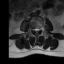CCS_normal: (36, 26, 37, 34)
LFS_normal: (39, 25, 41, 32)
LLS_normal: (37, 26, 39, 32)
RFS_normal: (32, 26, 34, 33)
RLS_normal: (34, 26, 36, 32)
